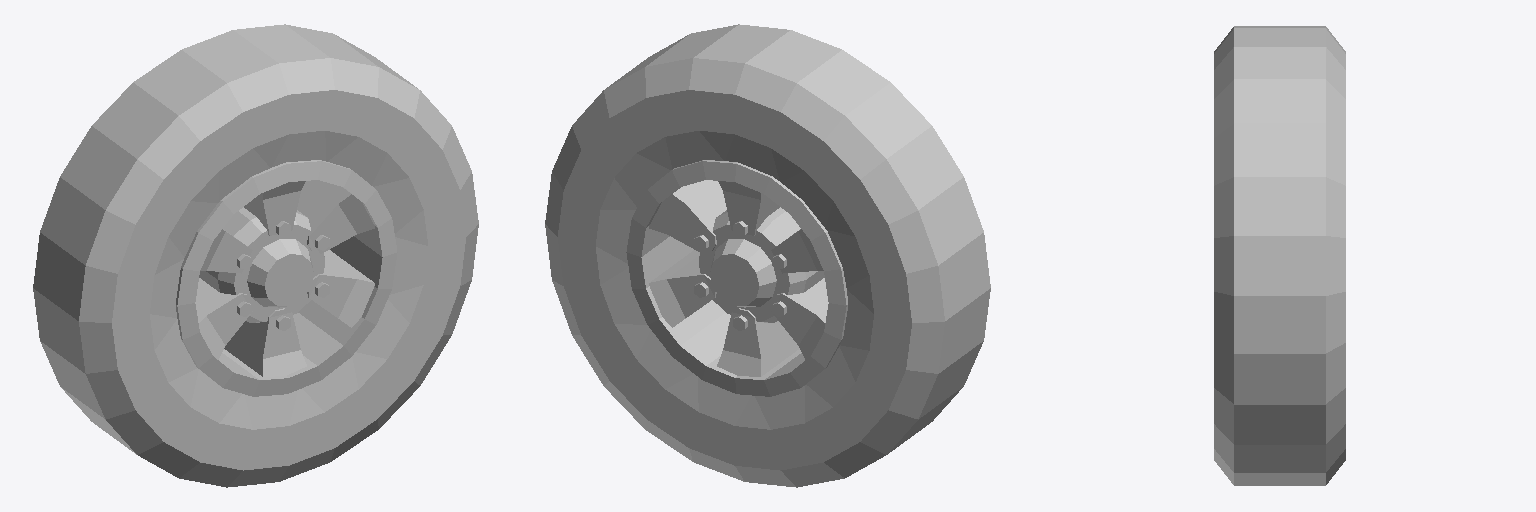
File: fant_wheel_large_2.obj
3 views of the same model, side by side, from view 1: azimuth 30°, elevation 25°; view 2: azimuth 150°, elevation 25°; view 3: azimuth 270°, elevation 25° (orthographic).
Parts seen in each view (by area): view 1: fant_wheel_large_1_Mesh; view 2: fant_wheel_large_1_Mesh; view 3: fant_wheel_large_1_Mesh.
Part boxes in pixels (x1,y1,x2,y2): fant_wheel_large_1_Mesh: (33,24,478,487); fant_wheel_large_1_Mesh: (545,24,990,487); fant_wheel_large_1_Mesh: (1214,26,1345,485).
Size of the model in its own units: 7 by 7 by 2.01.